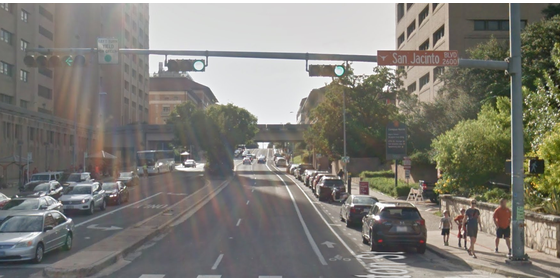left turn yield on green sign: (96, 35, 120, 63)
